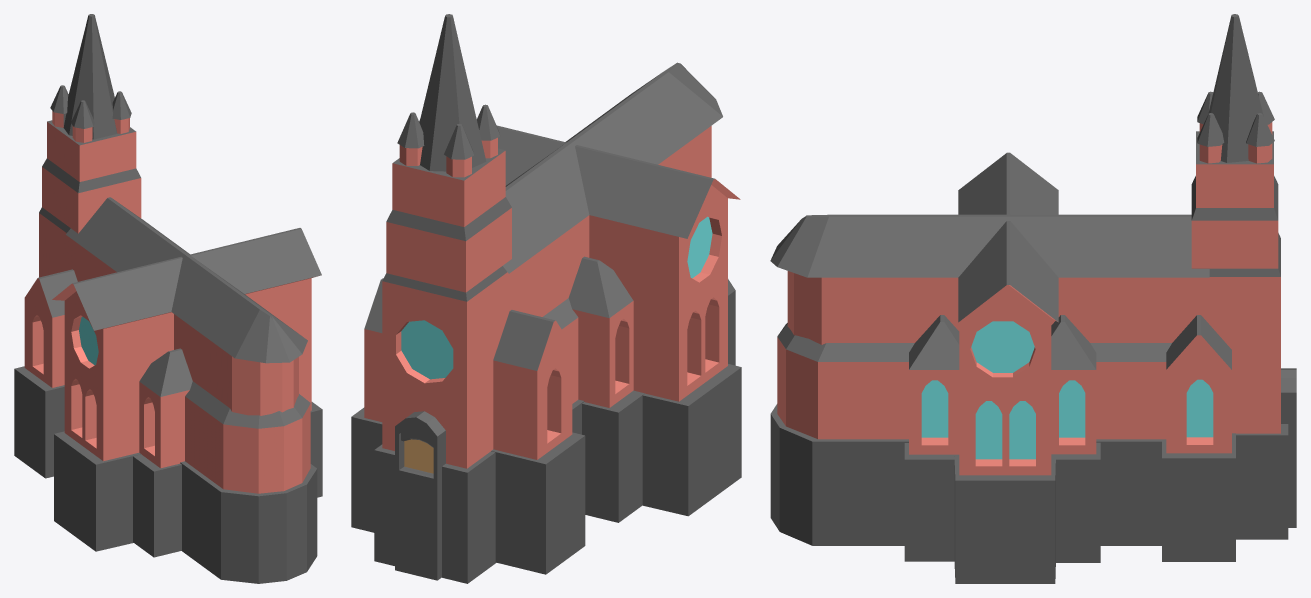
The model's file is Church.fbx.
The picture shows the model from 3 angles, left to right: view 1: azimuth 30°, elevation 25°; view 2: azimuth 150°, elevation 25°; view 3: azimuth 270°, elevation 25°; orthographic projection. The views are drawn at different scales.
Visible parts, largest first — view 1: Church; view 2: Church; view 3: Church.
Part boxes in pixels (x1,y1,x2,y2): Church: [14, 14, 322, 583]; Church: [351, 14, 741, 583]; Church: [770, 14, 1296, 583].
Bounding box in the file's own units: 1679 × 2991 × 2822.
